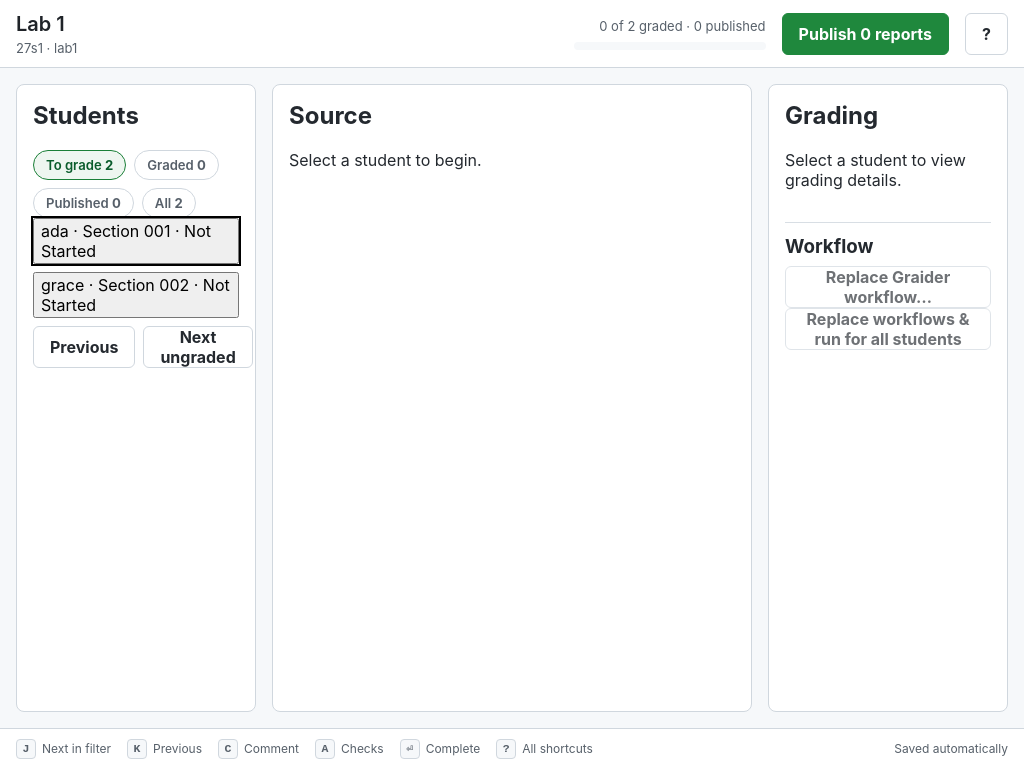
Test: GradingWorkspacePage workflow repair › ignores a stale availability result after switching students
The width and height of the screenshot is (1024, 768).
Click the button "grace · Section 002 · Not Started".
click(136, 295)  # box [33,272,239,318]
(page scrolled)
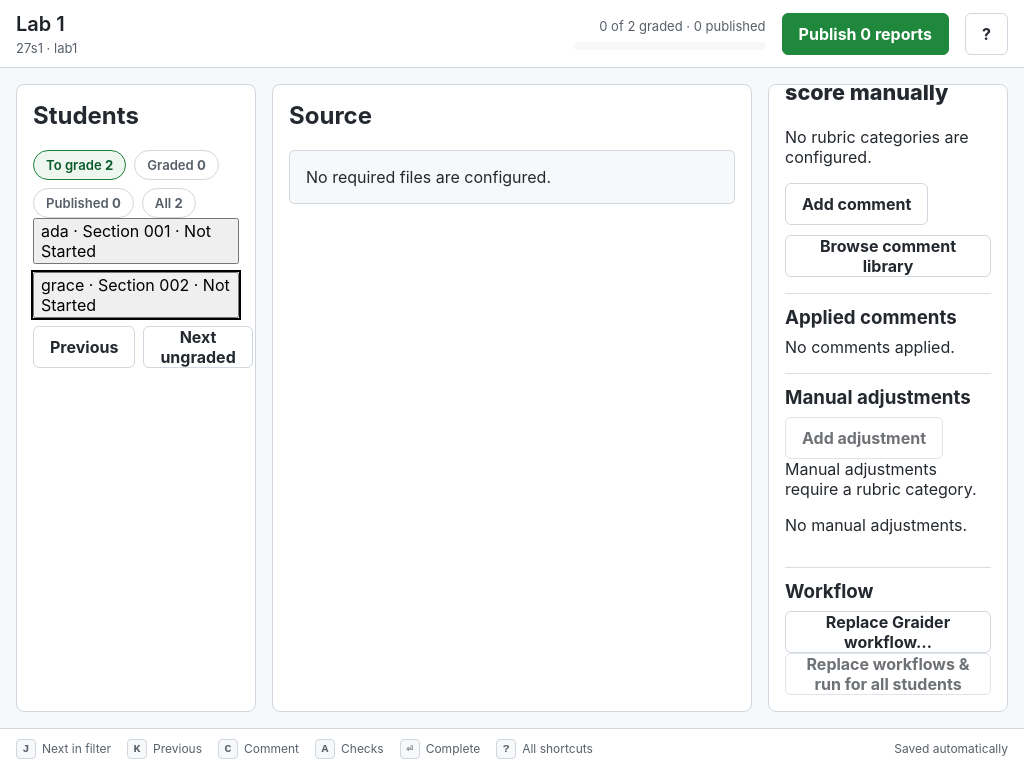
Check: the button "Replace Graider workflow…" is enabled
Click the button "Replace Graider workflow…".
click(888, 632)  # box [785,610,991,652]
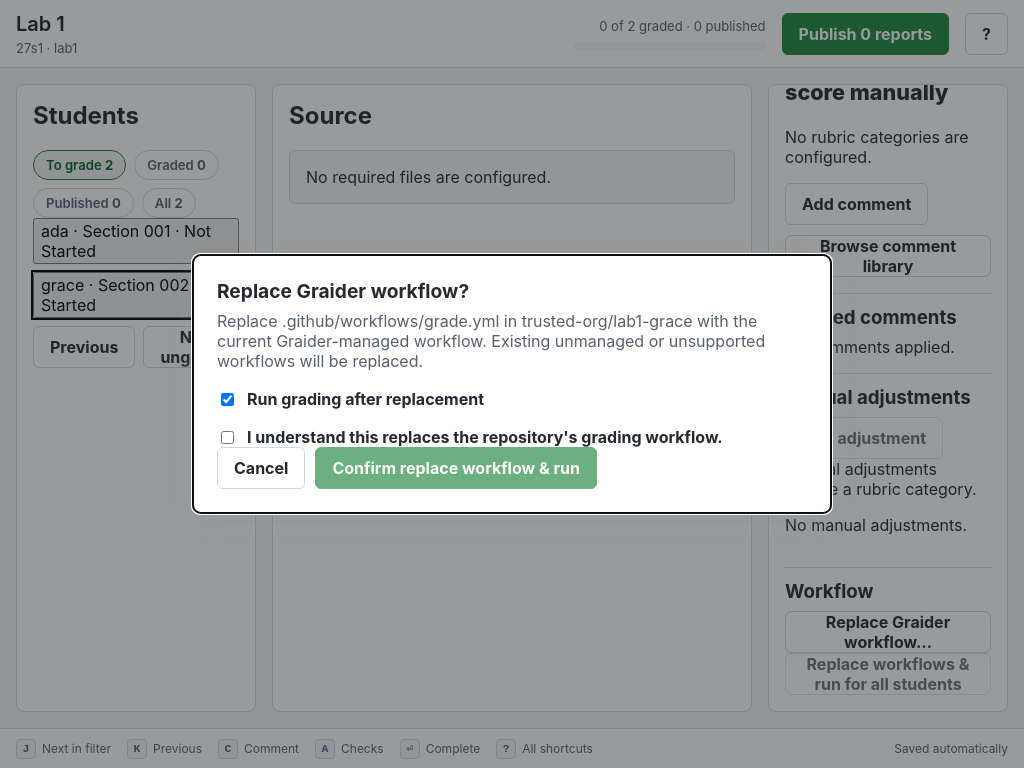
Check: the dialog shows "trusted-org/lab1-grace", box [522,311,693,331]
